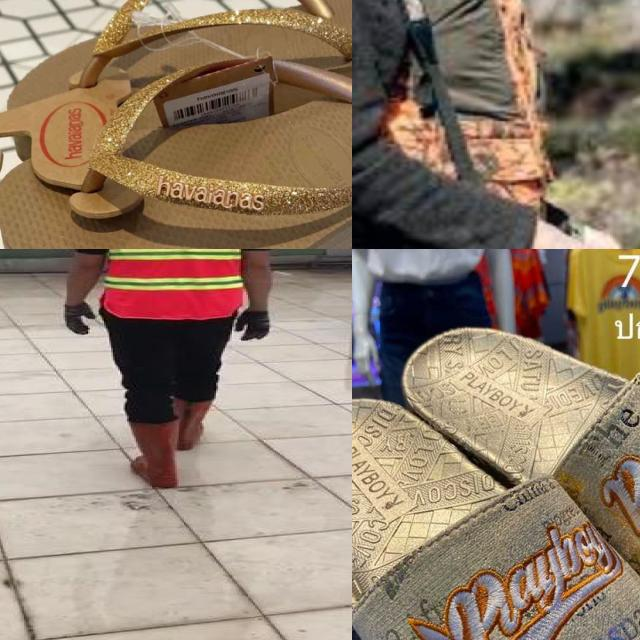Sandals: (352, 308, 640, 640), (0, 0, 352, 249)
boots: (125, 417, 179, 487), (170, 395, 214, 452)
hand_glove: (61, 302, 95, 336), (236, 311, 271, 342)
person: (49, 249, 289, 488)
vest: (95, 249, 251, 317)
